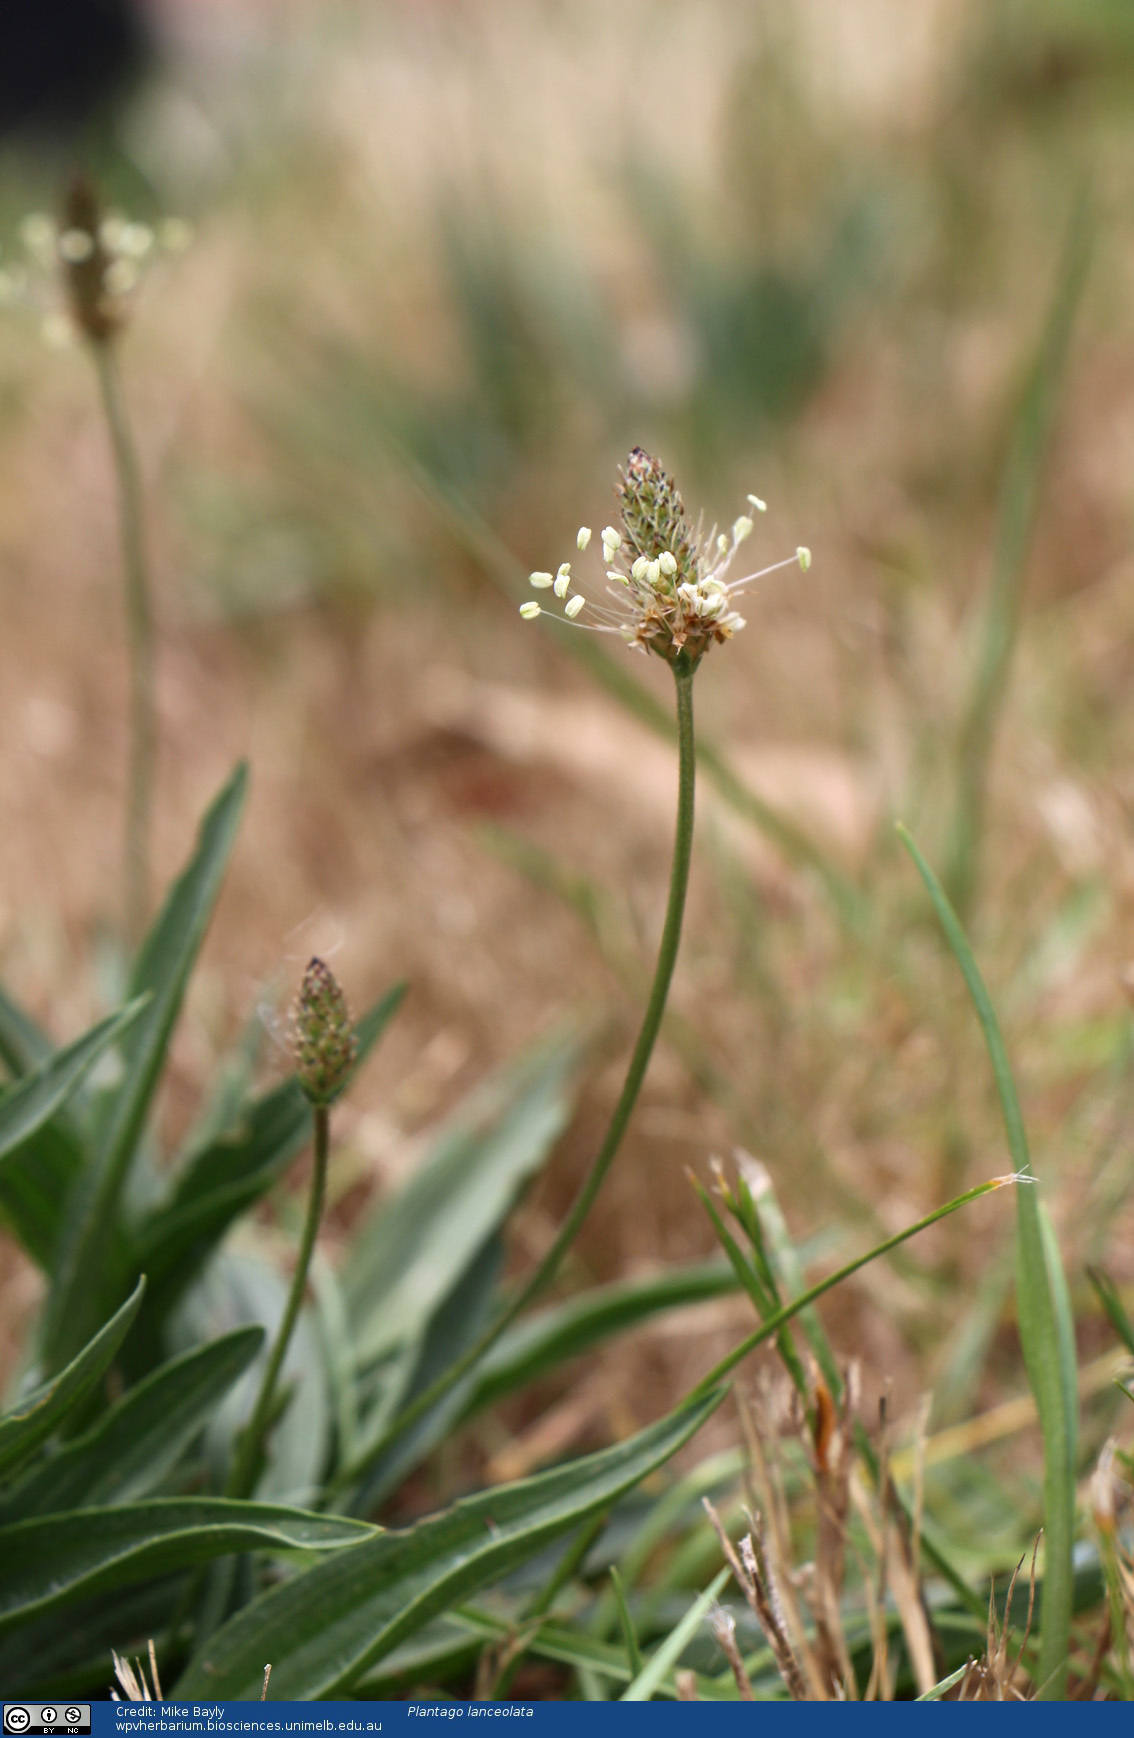buckhorn plantain: (514, 426, 872, 1003)
